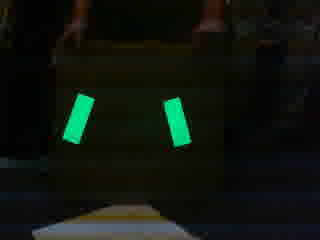target: (59, 92, 194, 148)
